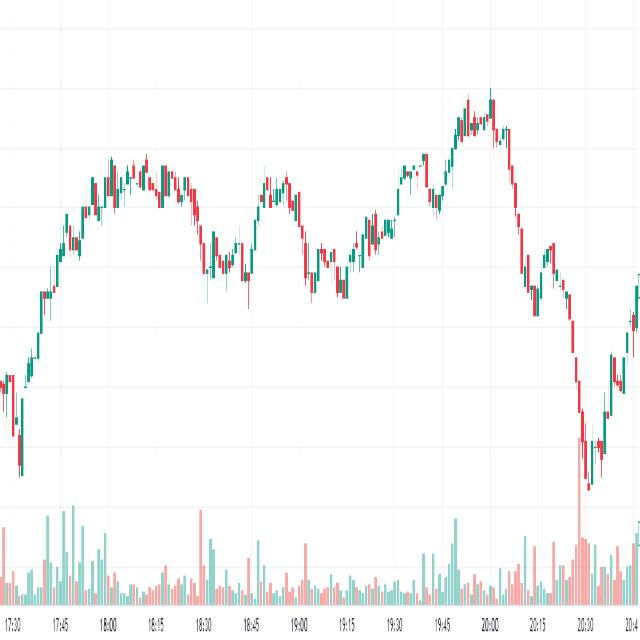Head-Shoulders: (388, 50, 588, 475)
Rounding-Top: (50, 136, 207, 282), (244, 163, 310, 272)
